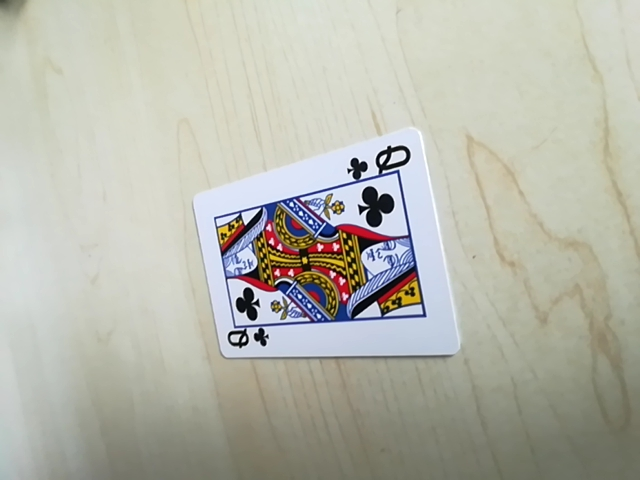mh q: (343, 143, 415, 180), (217, 322, 271, 358)
